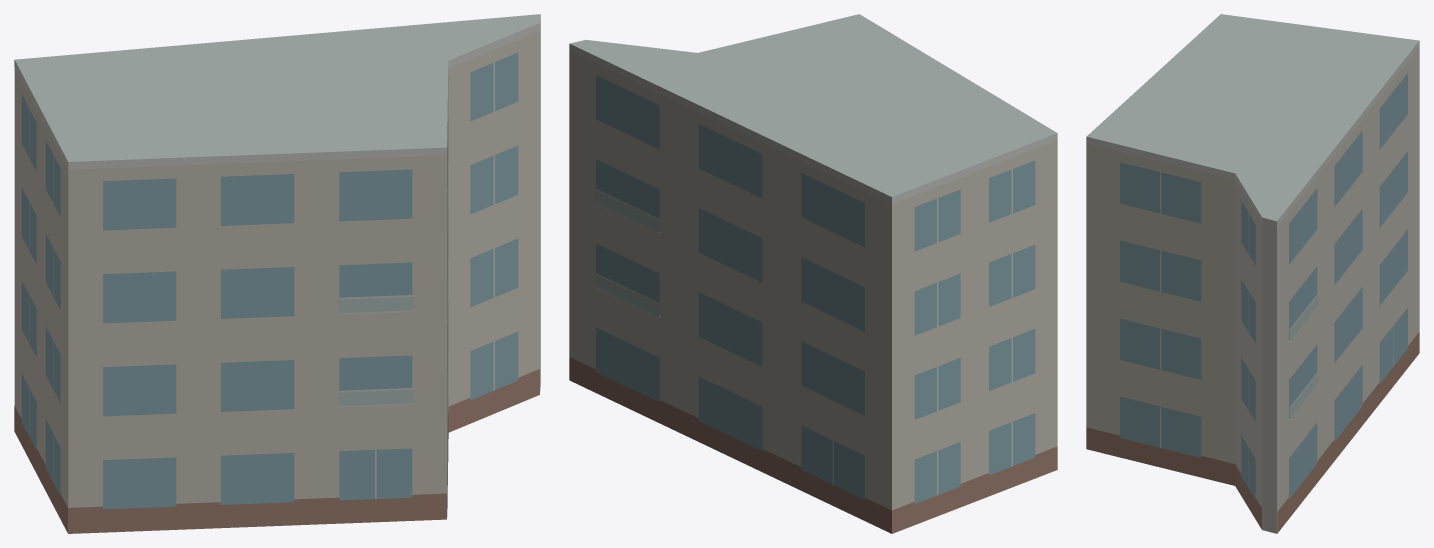
Rendered from survey-upis-32915069.glb.
3 views of the same model, side by side, from view 1: azimuth 30°, elevation 25°; view 2: azimuth 150°, elevation 25°; view 3: azimuth 270°, elevation 25° (orthographic). The views are drawn at different scales.
Parts seen in each view (by area): view 1: survey-upis-32915069.tmp; view 2: survey-upis-32915069.tmp; view 3: survey-upis-32915069.tmp.
Part boxes in pixels (left/top/right/bottom): survey-upis-32915069.tmp: left=14, top=14, right=540, bottom=533; survey-upis-32915069.tmp: left=569, top=14, right=1057, bottom=533; survey-upis-32915069.tmp: left=1086, top=14, right=1419, bottom=533.
Bounding box in the file's own units: 16.66 × 11.7 × 11.31.
